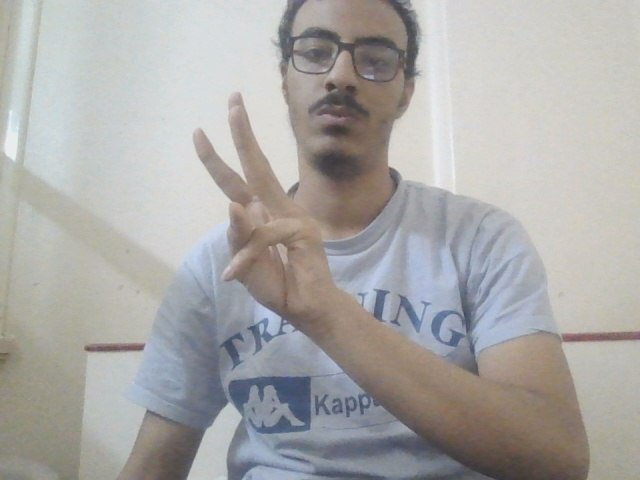Water: (186, 91, 353, 331)
